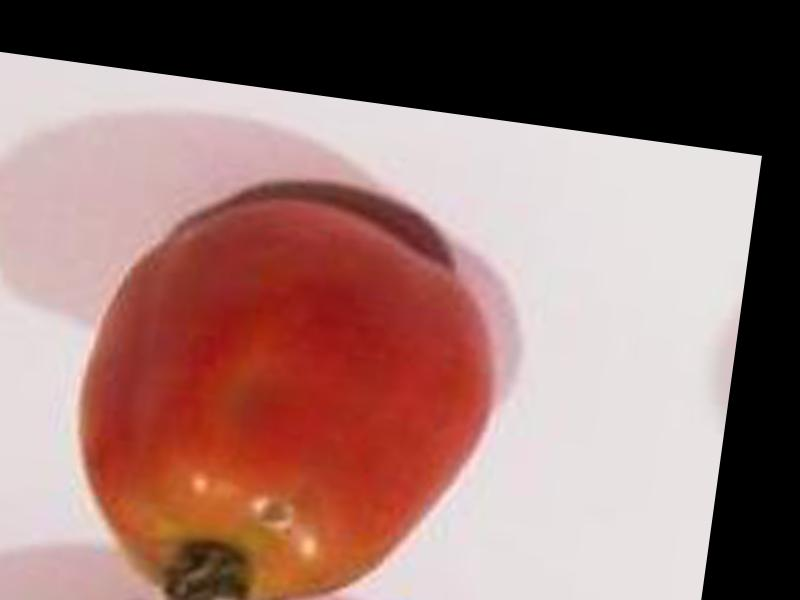Tomato: (57, 183, 512, 600)
